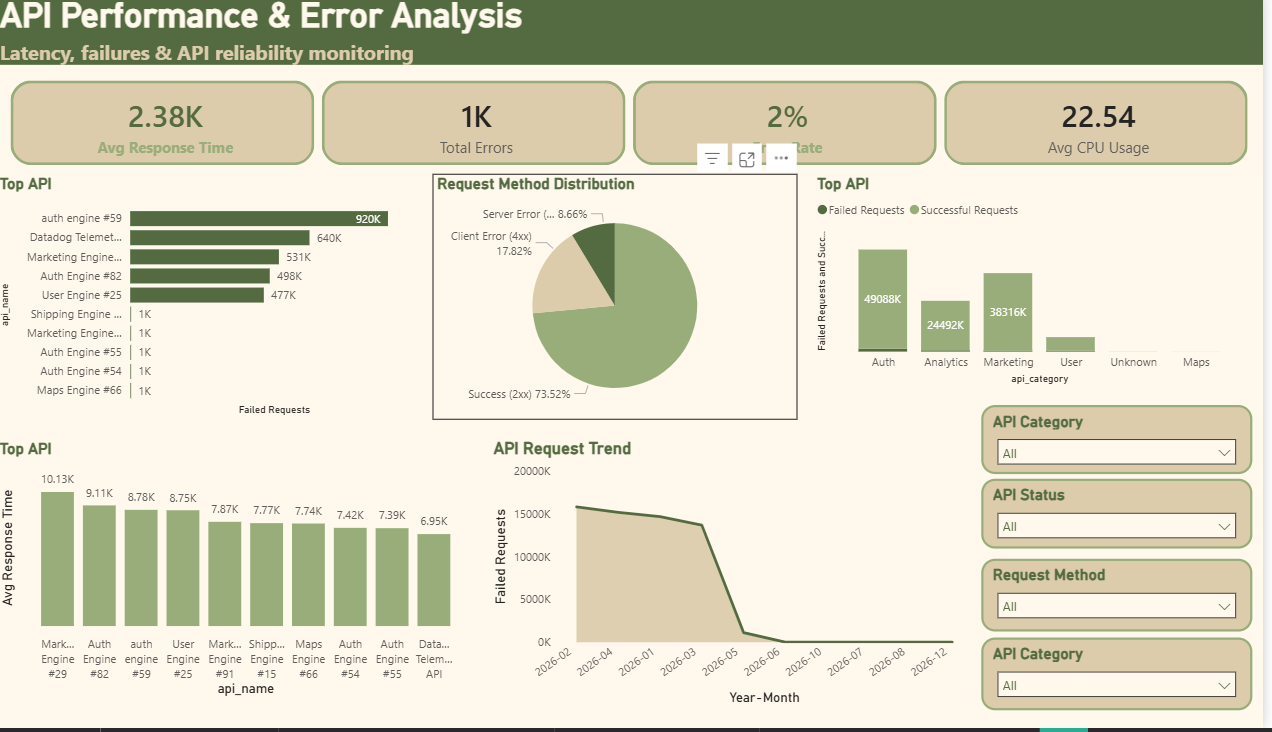

The dashboard page shown, as its layout file describes it:
{"tool":"powerbi","page":{"name":"API Performance & Error Analysis","canvas":[1366,790],"ordinal":1},"visuals":[{"type":"cardVisual","fields":{"Data":["Measure.Avg Response Time","ERROR ANALYSIS MEASURES.Total Errors","Measure.Error Rate","Measure.Avg CPU Usage"]},"box":[0,75.4,1366.5,125.2],"z":0},{"type":"textbox","title":"API Performance & Error Analysis","box":[0,0,1366.5,75.4],"z":1000},{"type":"areaChart","title":"API Request Trend","fields":{"Category":["DateTable.Year-Month"],"Y":["Measure.Failed Requests"]},"box":[531.8,477.9,522.4,292.1],"z":2000},{"type":"clusteredColumnChart","title":"Top API by Avg Response Time","fields":{"Category":["apis.api_name"],"Y":["Measure.Avg Response Time"]},"box":[0,477.9,514.3,282.7],"z":3000},{"type":"pieChart","title":"Request Method Distribution","fields":{"Y":["CountNonNull(api_logs.log_id)"],"Category":["api_logs.Status Category"]},"box":[471.2,192.5,393.1,265.2],"z":4000},{"type":"slicer","title":"API Category","fields":{"Values":["apis.api_category"]},"box":[1062.2,441.6,292.1,74],"z":5000},{"type":"slicer","title":"Request Method","fields":{"Values":["api_logs.request_method"]},"box":[1062.2,607.2,292.1,78.1],"z":6000},{"type":"slicer","title":"API Status","fields":{"Values":["apis.status"]},"box":[1062.2,521,292.1,75.4],"z":7000},{"type":"clusteredBarChart","title":"Top APIs by Failed Requests","fields":{"Category":["apis.api_name"],"Y":["Measure.Failed Requests"]},"box":[0,192.5,461.8,265.2],"z":8000},{"type":"columnChart","title":"API with Requests Type ","fields":{"Category":["apis.api_category"],"Y":["Measure.Failed Requests","Measure.Successful Requests"]},"box":[880.5,192.5,472.5,231.6],"z":9000}]}

Visuals, with their boxes in screenshot pixels (x1, y1, x2, y2), scaled from the page's 1366x790 canvas onto the 1272x732 screenshot:
cardVisual - Measure.Avg Response Time x ERROR ANALYSIS MEASURES.Total Errors: bbox=[0, 70, 1271, 186]
"API Performance & Error Analysis" textbox: bbox=[0, 0, 1271, 70]
"API Request Trend" areaChart: bbox=[495, 443, 982, 713]
"Top API by Avg Response Time" clusteredColumnChart: bbox=[0, 443, 479, 705]
"Request Method Distribution" pieChart: bbox=[439, 178, 805, 424]
"API Category" slicer: bbox=[989, 409, 1261, 478]
"Request Method" slicer: bbox=[989, 563, 1261, 635]
"API Status" slicer: bbox=[989, 483, 1261, 553]
"Top APIs by Failed Requests" clusteredBarChart: bbox=[0, 178, 430, 424]
"API with Requests Type " columnChart: bbox=[820, 178, 1260, 393]
